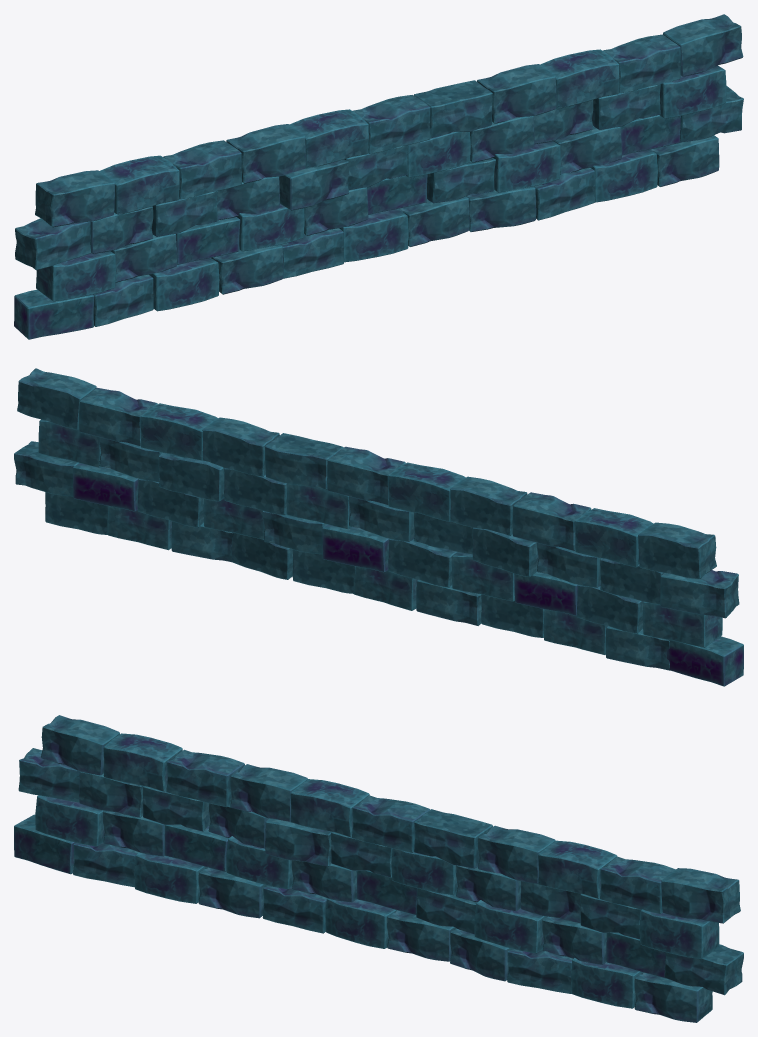
The model's file is ModularWall.fbx.
3 renders of one model, top to bottom at view 1: azimuth 30°, elevation 25°; view 2: azimuth 150°, elevation 25°; view 3: azimuth 330°, elevation 25°, orthographic.
Parts seen in each view (by area): view 1: SM_ModularWall1; view 2: SM_ModularWall1; view 3: SM_ModularWall1.
Part boxes in pixels (x1=…): SM_ModularWall1: x1=14, y1=14, x2=743, y2=339; SM_ModularWall1: x1=14, y1=368, x2=743, y2=686; SM_ModularWall1: x1=14, y1=715, x2=743, y2=1022.
Bounding box in the file's own units: 562 × 106 × 39.78.
3 materials, 3 textured.
